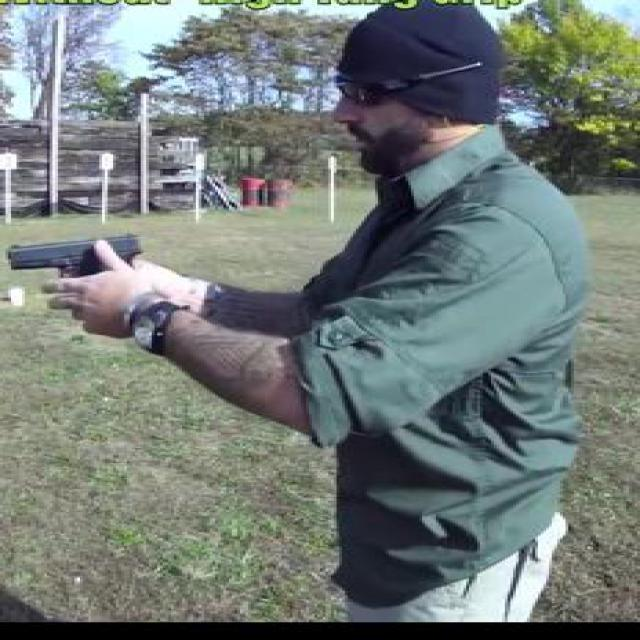gun: (3, 230, 149, 334)
